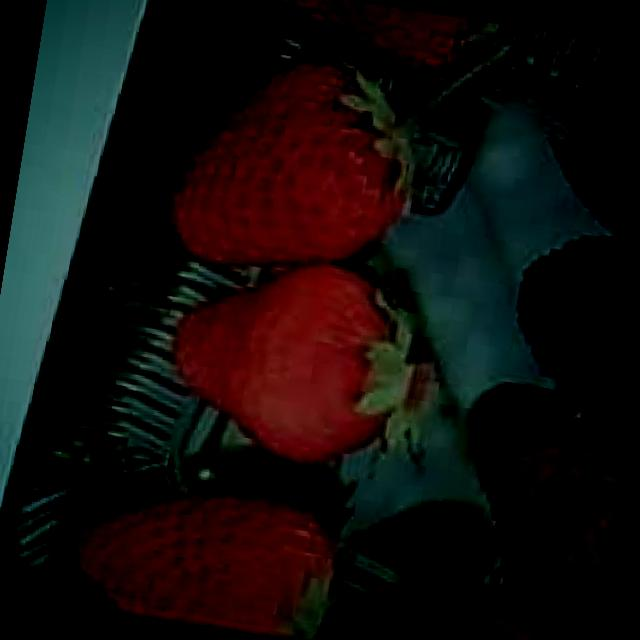Strawberry: (163, 34, 425, 290), (162, 242, 422, 474), (68, 465, 343, 640), (454, 406, 626, 625), (501, 225, 640, 428), (323, 569, 598, 640), (261, 0, 479, 80), (553, 41, 640, 222)
